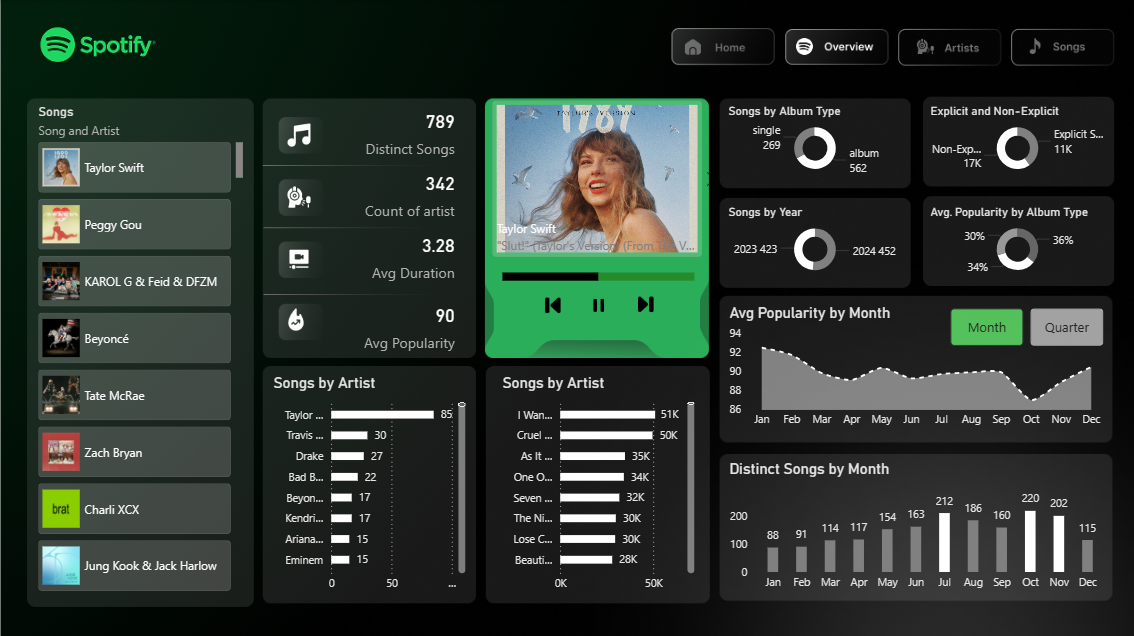

Layout of this report page (visuals, bound fields, positions):
{"tool":"powerbi","page":{"name":"Overview","canvas":[1280,720],"ordinal":1},"visuals":[{"type":"clusteredBarChart","title":"Songs by Artist","fields":{"Y":["_Measure.Distinct Songs"],"Category":["Top-50-world.artist"]},"box":[303.8,420.8,226.1,253.1],"z":0},{"type":"clusteredBarChart","title":"Songs by Artist","fields":{"Category":["Top-50-world.song"],"Y":["Sum(Top-50-world.popularity)"]},"box":[561.4,420.8,226.1,253.1],"z":1000},{"type":"areaChart","fields":{"Y":["_Measure.Avg Popularity"],"Category":["Top-50-world.Month"]},"box":[817.1,341.5,430.4,148.2],"z":2000},{"type":"advancedSlicerVisual","fields":{"Values":["Slicer_option.Slicer_option"]},"box":[1065.4,342,182.2,52.9],"z":3000},{"type":"donutChart","title":"Songs by Album Type","fields":{"Category":["Top-50-world.album_type"],"Y":["_Measure.Distinct Songs"]},"box":[815.6,117,204.8,84.4],"z":4000},{"type":"donutChart","title":"Explicit and Non-Explicit","fields":{"Y":["_Measure.Explicit Songs","_Measure.Non-Explicit Songs"]},"box":[1042.9,117,205.9,84.4],"z":5000},{"type":"donutChart","title":"Songs by Year","fields":{"Y":["_Measure.Distinct Songs"],"Category":["Top-50-world.Year"]},"box":[815.8,230.2,204.6,84.7],"z":6000},{"type":"donutChart","title":"Avg. Popularity by Album Type","fields":{"Y":["_Measure.Avg Popularity"],"Category":["Top-50-world.album_type"]},"box":[1042.9,230.6,205.9,84.4],"z":7000},{"type":"clusteredColumnChart","fields":{"Category":["Top-50-world.Month"],"Y":["_Measure.Distinct Songs"]},"box":[816.8,518,432.2,156],"z":8000},{"type":"cardVisual","fields":{"Data":["_Measure.Distinct Songs"]},"box":[385.8,108.4,144.1,77.4],"z":9000},{"type":"cardVisual","fields":{"Data":["Count(Top-50-world.artist)"]},"box":[385.8,177.4,144.1,78.6],"z":10000},{"type":"cardVisual","fields":{"Data":["_Measure.Avg Duration Minutes"]},"box":[385.8,247.7,144.1,78.6],"z":11000},{"type":"cardVisual","fields":{"Data":["_Measure.Avg Popularity"]},"box":[385.8,326.3,144.1,78.6],"z":12000},{"type":"image","box":[319.5,342,36,34.9],"z":13000},{"type":"image","box":[319.5,195.8,36,51.8],"z":14000},{"type":"image","box":[319.5,267.8,36,47.2],"z":15000},{"type":"image","box":[319.5,126,36,51.8],"z":16000},{"type":"advancedSlicerVisual","title":"Songs","fields":{"Values":["Top-50-world.song"]},"box":[529.9,108,286.9,186.8],"z":17000},{"type":"advancedSlicerVisual","title":"Songs","fields":{"Values":["Top-50-world.song"]},"box":[39.3,116.7,240.5,557.2],"z":18000},{"type":"hundredPercentStackedBarChart","fields":{"Y":["Avg(Top-50-world.popularity)","_Measure.Avg Popularity"]},"box":[560.8,267.9,226.2,81],"z":19000},{"type":"image","box":[602.5,328.6,40,30],"z":20000},{"type":"image","box":[707.6,327.4,40,30],"z":21000},{"type":"image","box":[655.1,328,40,30],"z":22000},{"type":"shape","box":[556.9,108,230.6,300.4],"z":23000},{"type":"actionButton","box":[884.2,30.4,118.1,40.5],"z":24000},{"type":"actionButton","box":[1013.6,30.4,109.1,40.5],"z":25000},{"type":"actionButton","box":[1140.8,30.4,118.1,40.5],"z":26000},{"type":"actionButton","box":[754.9,30.4,118.1,40.5],"z":27000}]}

Visuals, with their boxes on the page's 1280x720 design canvas (x1, y1, x2, y2). These are canvas units, not pixel positions in the 1134x636 screenshot, which may show the page scaled, cropped or inside an application window:
"Songs by Artist" clusteredBarChart: Rect(304, 421, 530, 674)
"Songs by Artist" clusteredBarChart: Rect(561, 421, 788, 674)
areaChart - _Measure.Avg Popularity x Top-50-world.Month: Rect(817, 342, 1248, 490)
advancedSlicerVisual - Slicer_option.Slicer_option: Rect(1065, 342, 1248, 395)
"Songs by Album Type" donutChart: Rect(816, 117, 1020, 201)
"Explicit and Non-Explicit" donutChart: Rect(1043, 117, 1249, 201)
"Songs by Year" donutChart: Rect(816, 230, 1020, 315)
"Avg. Popularity by Album Type" donutChart: Rect(1043, 231, 1249, 315)
clusteredColumnChart - Top-50-world.Month x _Measure.Distinct Songs: Rect(817, 518, 1249, 674)
cardVisual - _Measure.Distinct Songs: Rect(386, 108, 530, 186)
cardVisual - Count(Top-50-world.artist): Rect(386, 177, 530, 256)
cardVisual - _Measure.Avg Duration Minutes: Rect(386, 248, 530, 326)
cardVisual - _Measure.Avg Popularity: Rect(386, 326, 530, 405)
image: Rect(320, 342, 356, 377)
image: Rect(320, 196, 356, 248)
image: Rect(320, 268, 356, 315)
image: Rect(320, 126, 356, 178)
"Songs" advancedSlicerVisual: Rect(530, 108, 817, 295)
"Songs" advancedSlicerVisual: Rect(39, 117, 280, 674)
hundredPercentStackedBarChart - Avg(Top-50-world.popularity) x _Measure.Avg Popularity: Rect(561, 268, 787, 349)
image: Rect(602, 329, 642, 359)
image: Rect(708, 327, 748, 357)
image: Rect(655, 328, 695, 358)
shape: Rect(557, 108, 788, 408)
actionButton: Rect(884, 30, 1002, 71)
actionButton: Rect(1014, 30, 1123, 71)
actionButton: Rect(1141, 30, 1259, 71)
actionButton: Rect(755, 30, 873, 71)
